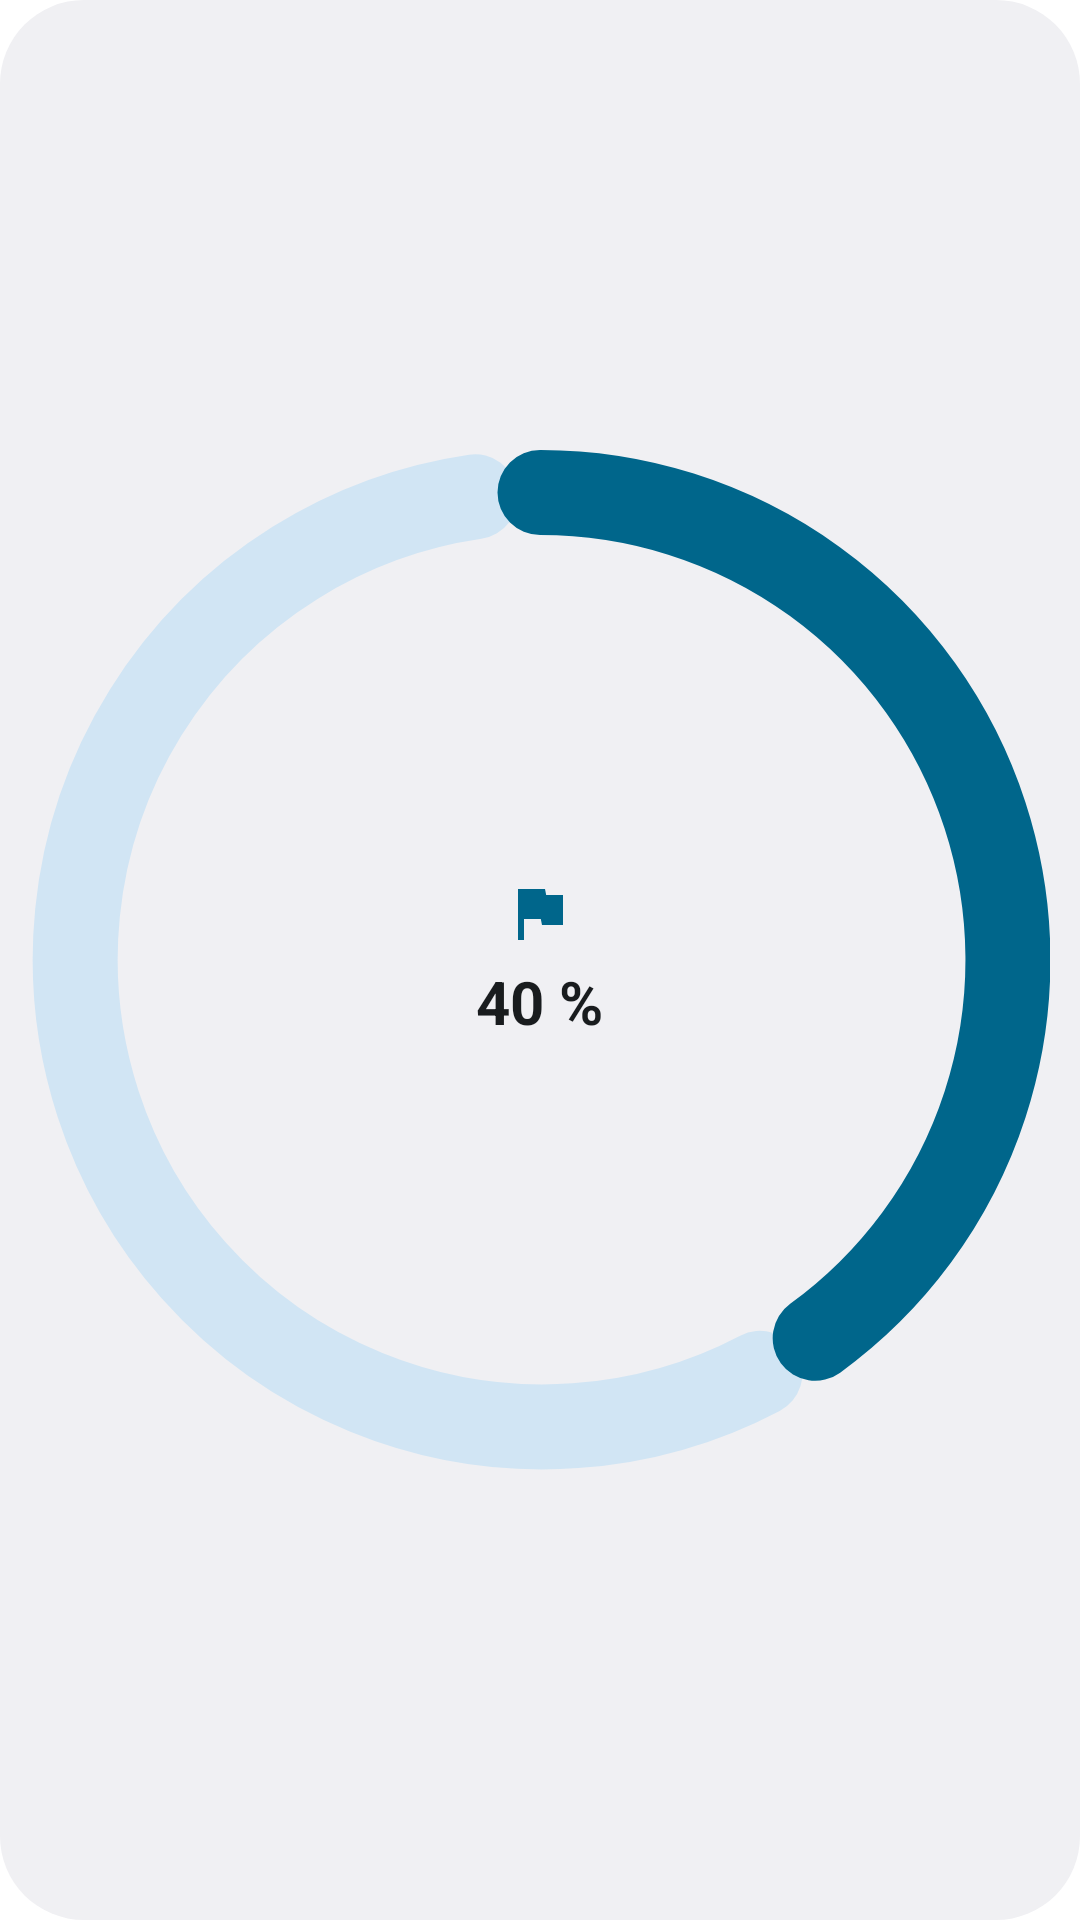

Screen size 1080px x 1920px. Icon name, then its center in pixels as (x=x, y=y):
widget goal: (x=540, y=914)
